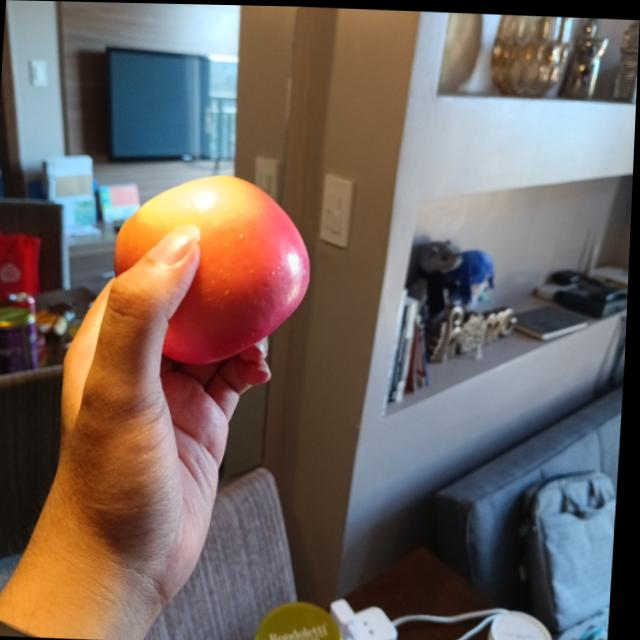apple: (110, 168, 316, 365)
